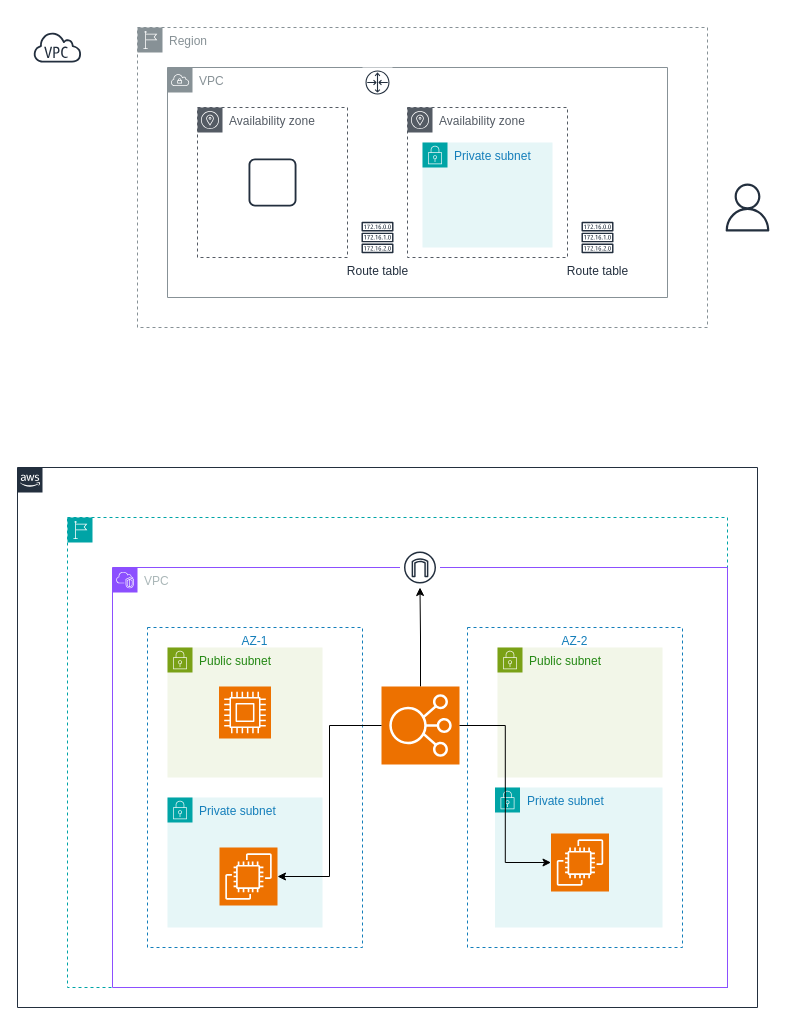
Some shapes in this 795 by 1025 pixel diagram are drawn without their labels. The shapes that lost their labels are listed below. From the top down, each one's centre as x and y in pixels, then its label:
the point at 57,47: Virtual private cloud
the point at 377,82: Router
the point at 272,182: Instance
the point at 747,207: User
the point at 419,567: Internet gateway
